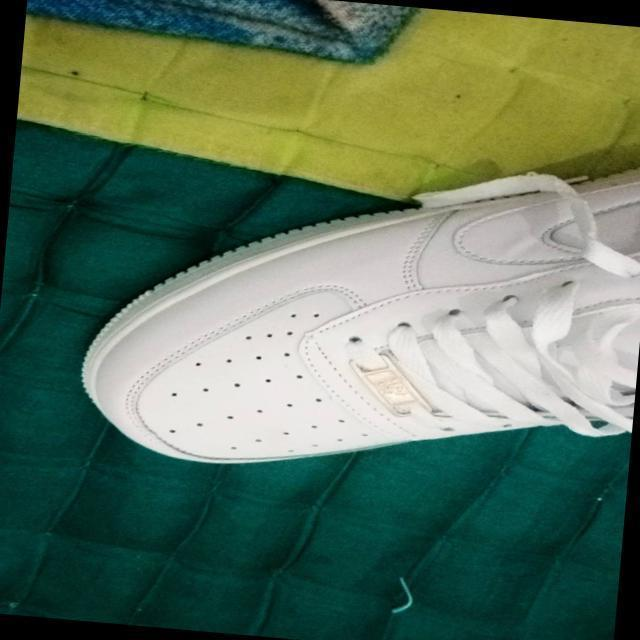nike fake air force: (70, 116, 640, 503)
